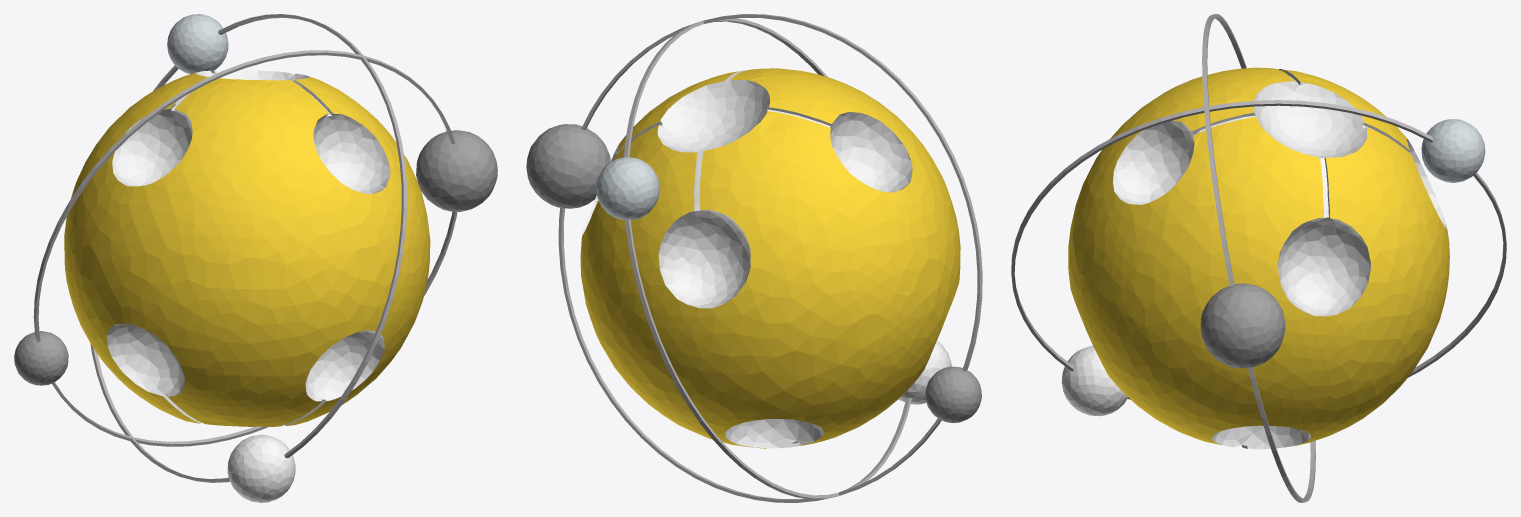
The model's file is Planet_13.glb.
3 views of the same model, side by side, from view 1: azimuth 30°, elevation 25°; view 2: azimuth 150°, elevation 25°; view 3: azimuth 270°, elevation 25° (orthographic). The views are drawn at different scales.
Parts seen in each view (by area): view 1: Planet_13; view 2: Planet_13; view 3: Planet_13.
Part boxes in pixels (<box>): Planet_13: <box>14,14,497,502</box>; Planet_13: <box>526,14,982,502</box>; Planet_13: <box>1011,14,1506,502</box>.
Size of the model in its own units: 28.48 by 25.43 by 25.96.
Materials: 1 (1 with a texture image).
